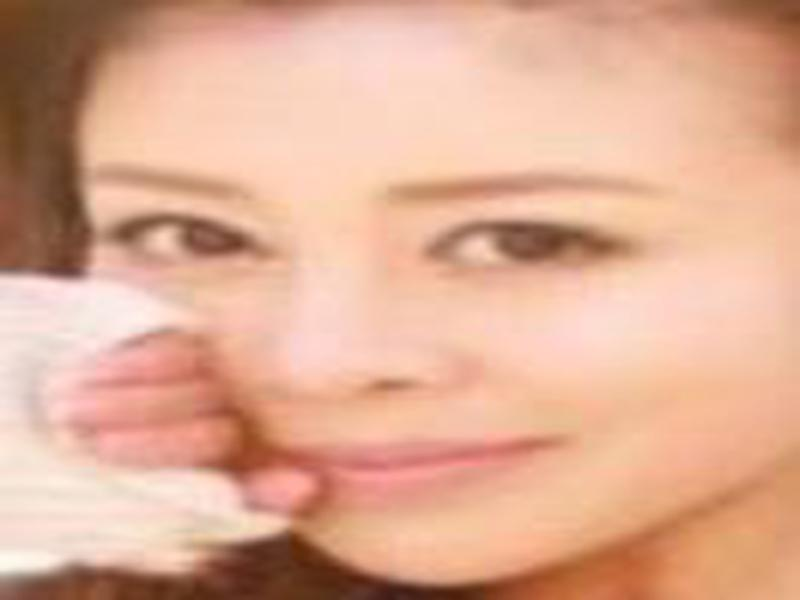without_mask: (78, 23, 785, 584)
